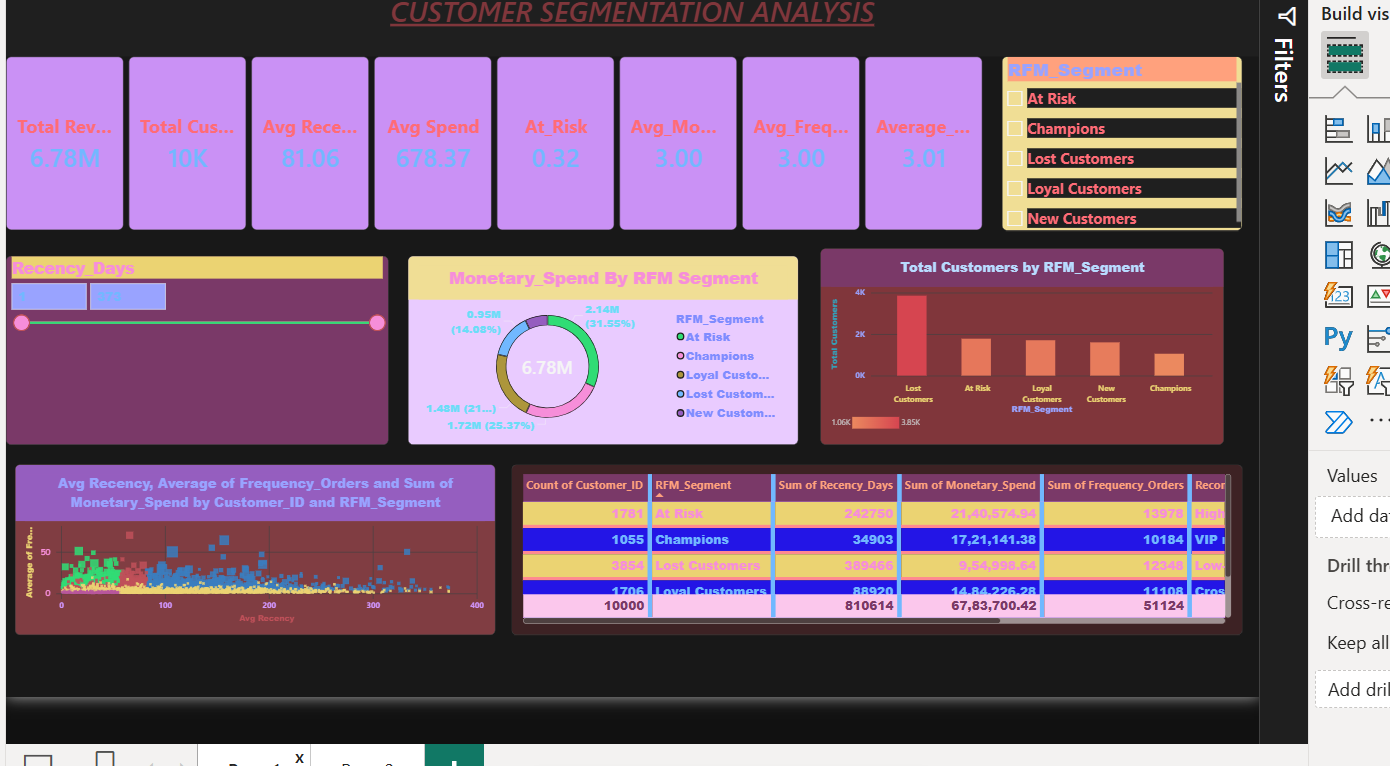

Layout of this report page (visuals, bound fields, positions):
{"tool":"powerbi","page":{"name":"Page 1","canvas":[1920,1080],"ordinal":0},"visuals":[{"type":"cardVisual","fields":{"Data":["rfm_10k_customer_segments.Total Revenue","rfm_10k_customer_segments.Total Customers","rfm_10k_customer_segments.Avg Recency","rfm_10k_customer_segments.Avg Spend","rfm_10k_customer_segments.At_Risk"]},"box":[0,99.2,1499.5,266.5],"z":0},{"type":"donutChart","title":"Monetary_Spend By RFM Segment","fields":{"Y":["Sum(rfm_10k_customer_segments.Monetary_Spend)"],"Category":["rfm_10k_customer_segments.RFM_Segment"]},"box":[615.1,405.4,598.1,289.1],"z":1},{"type":"clusteredColumnChart","fields":{"Y":["rfm_10k_customer_segments.Total Customers"],"Category":["rfm_10k_customer_segments.RFM_Segment"]},"box":[1247.3,394,618,300.5],"z":2},{"type":"scatterChart","fields":{"Category":["rfm_10k_customer_segments.Customer_ID"],"X":["rfm_10k_customer_segments.Avg Recency"],"Y":["Avg(rfm_10k_customer_segments.Frequency_Orders)"],"Series":["rfm_10k_customer_segments.RFM_Segment"],"Size":["Sum(rfm_10k_customer_segments.Monetary_Spend)"]},"box":[14.2,725.7,737,289.1],"z":3},{"type":"tableEx","fields":{"Values":["CountNonNull(rfm_10k_customer_segments.Customer_ID)","rfm_10k_customer_segments.RFM_Segment","Sum(rfm_10k_customer_segments.Recency_Days)","Sum(rfm_10k_customer_segments.Monetary_Spend)","Sum(rfm_10k_customer_segments.Frequency_Orders)","rfm_10k_customer_segments.Recommended_Action"]},"box":[844.7,725.7,1048.8,289.1],"z":4},{"type":"slicer","fields":{"Values":["rfm_10k_customer_segments.RFM_Segment"]},"box":[1556.2,99.2,337.3,266.5],"z":5},{"type":"slicer","fields":{"Values":["rfm_10k_customer_segments.Recency_Days"]},"box":[28.3,405.4,538.6,289.1],"z":6}]}

Visuals, with their boxes on the page's 1920x1080 design canvas (x1, y1, x2, y2). These are canvas units, not pixel positions in the 1390x766 screenshot, which may show the page scaled, cropped or inside an application window:
cardVisual - rfm_10k_customer_segments.Total Revenue x rfm_10k_customer_segments.Total Customers: Rect(0, 99, 1500, 366)
"Monetary_Spend By RFM Segment" donutChart: Rect(615, 405, 1213, 694)
clusteredColumnChart - rfm_10k_customer_segments.Total Customers x rfm_10k_customer_segments.RFM_Segment: Rect(1247, 394, 1865, 694)
scatterChart - rfm_10k_customer_segments.Customer_ID x rfm_10k_customer_segments.Avg Recency: Rect(14, 726, 751, 1015)
tableEx - CountNonNull(rfm_10k_customer_segments.Customer_ID) x rfm_10k_customer_segments.RFM_Segment: Rect(845, 726, 1894, 1015)
slicer - rfm_10k_customer_segments.RFM_Segment: Rect(1556, 99, 1894, 366)
slicer - rfm_10k_customer_segments.Recency_Days: Rect(28, 405, 567, 694)
